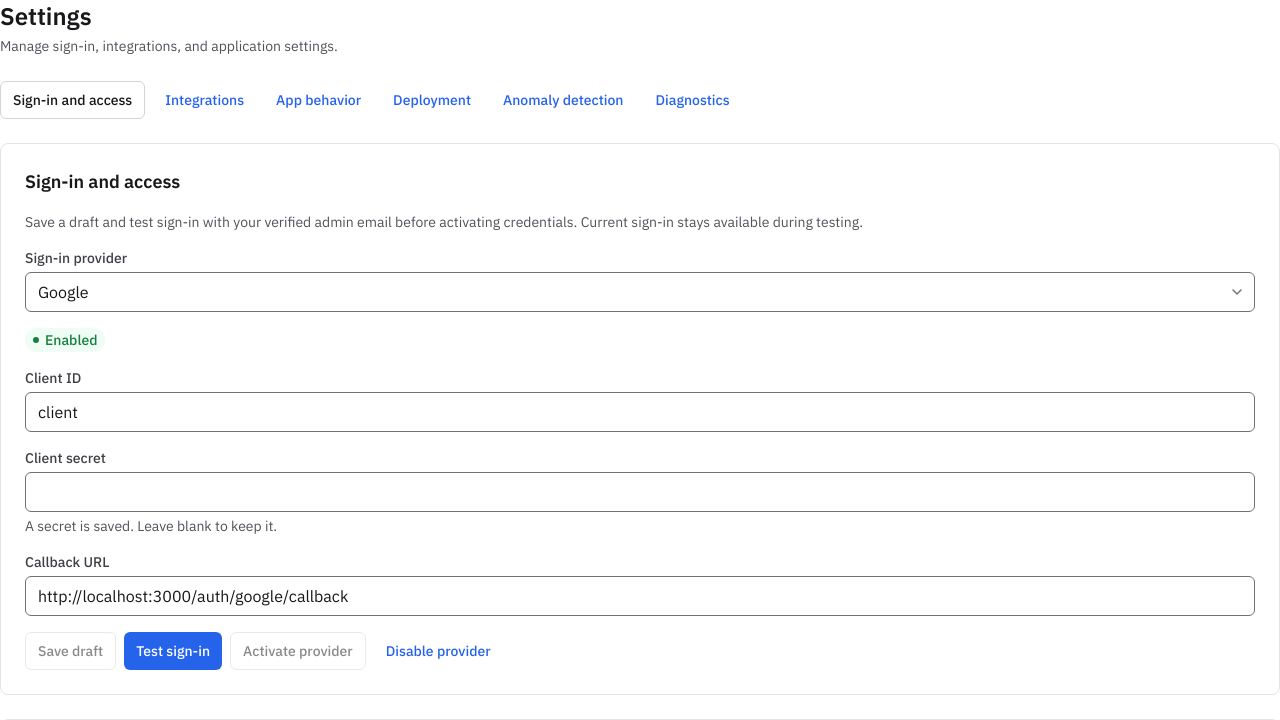
Test: Settings and installation › reports a failed sign-in start
Check: the field showing "client" is shown, box left=25, top=392, right=1255, bottom=432
What coordinates should you click on to do the following:
click the button "Test sign-in"
I would click on:
 (173, 651)
Its box is left=124, top=632, right=222, bottom=670.
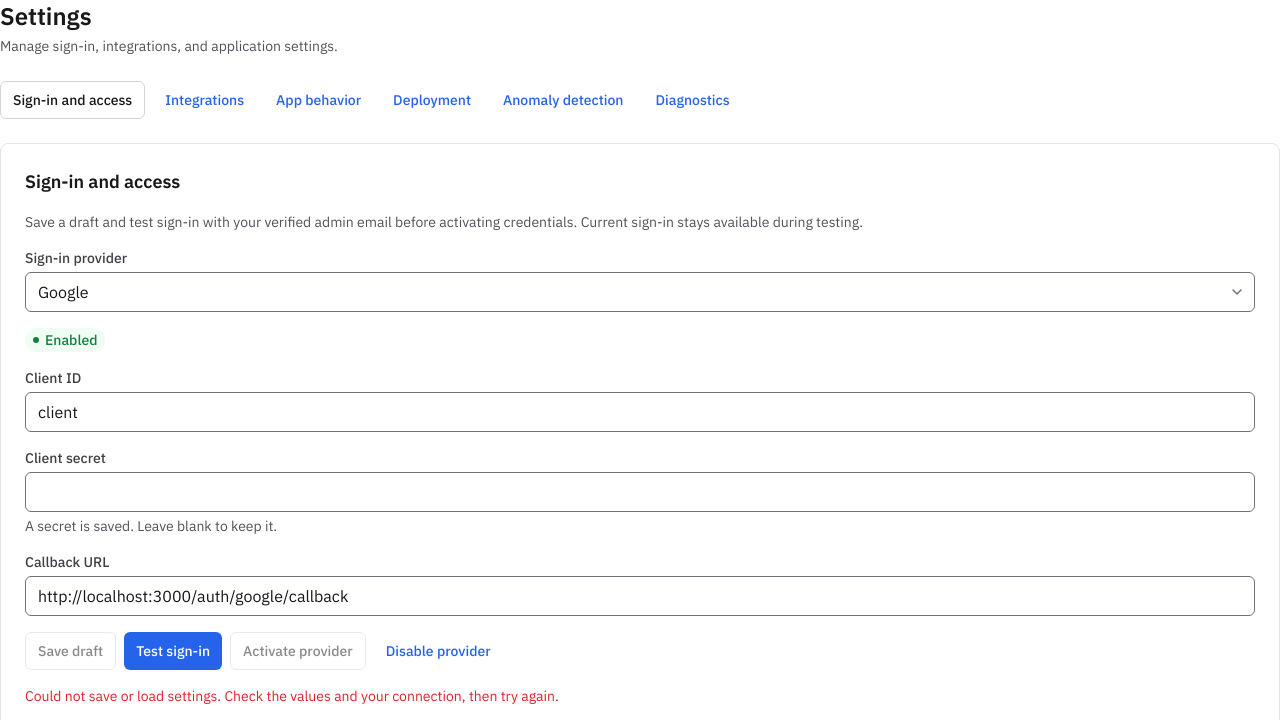
Check: the text "Could not save or load settings. Check the values and your connection, then try again." is shown, box left=25, top=687, right=559, bottom=705
